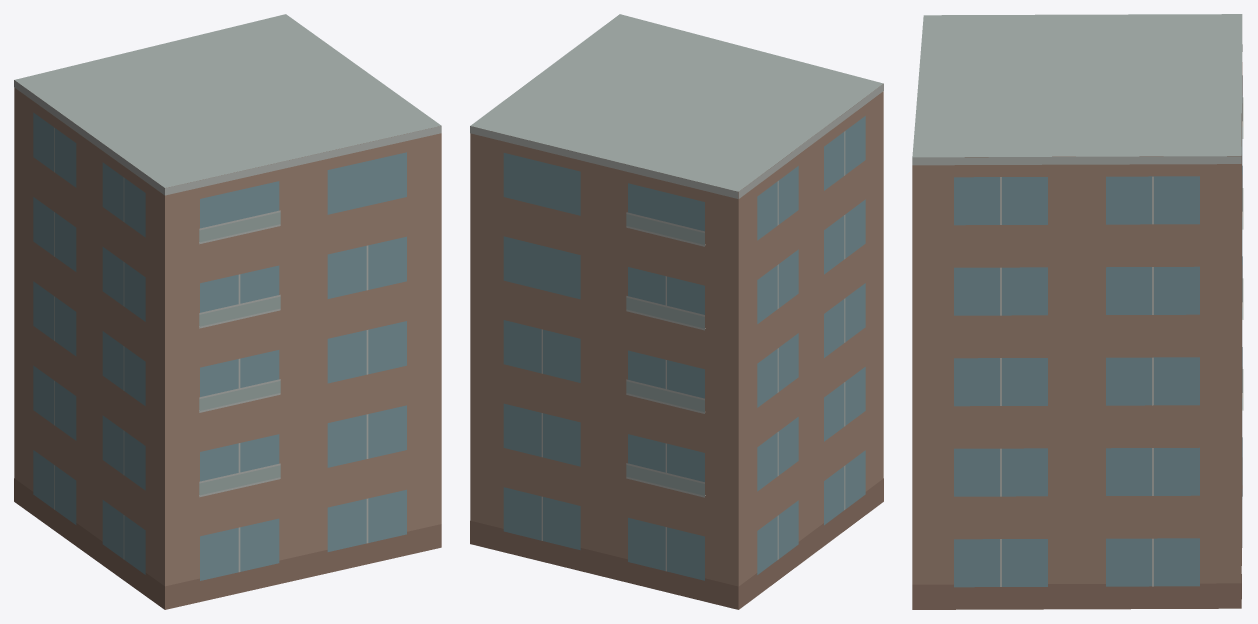
Rendered from survey-upis-32731008.glb.
3 views of the same model, side by side, from view 1: azimuth 30°, elevation 25°; view 2: azimuth 150°, elevation 25°; view 3: azimuth 270°, elevation 25° (orthographic). The views are drawn at different scales.
Parts seen in each view (by area): view 1: survey-upis-32731008.tmp; view 2: survey-upis-32731008.tmp; view 3: survey-upis-32731008.tmp.
Boxes of the visible parts, bbox=[...] form: survey-upis-32731008.tmp: bbox=[14, 14, 441, 609]; survey-upis-32731008.tmp: bbox=[470, 14, 883, 609]; survey-upis-32731008.tmp: bbox=[912, 14, 1243, 609].
Bounding box in the file's own units: 9.38 × 13.8 × 9.17.
